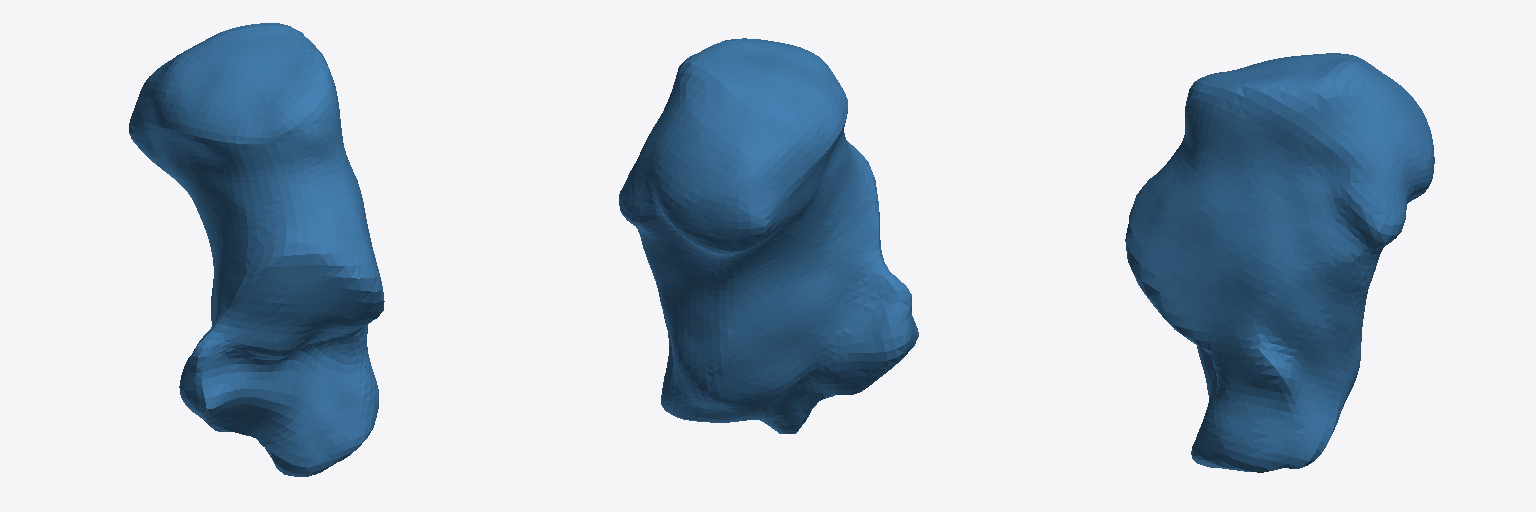
Rendered from Calcaneous.obj.
3 views of the same model, side by side, from view 1: azimuth 30°, elevation 25°; view 2: azimuth 150°, elevation 25°; view 3: azimuth 270°, elevation 25° (orthographic).
Visible parts, largest first — view 1: Object_0Calcaneous; view 2: Object_0Calcaneous; view 3: Object_0Calcaneous.
Part boxes in pixels (x1,y1,x2,y2): Object_0Calcaneous: (129,23,384,476); Object_0Calcaneous: (619,38,918,433); Object_0Calcaneous: (1125,53,1434,472).
Bounding box in the file's own units: 50.11 × 90.5 × 62.61.